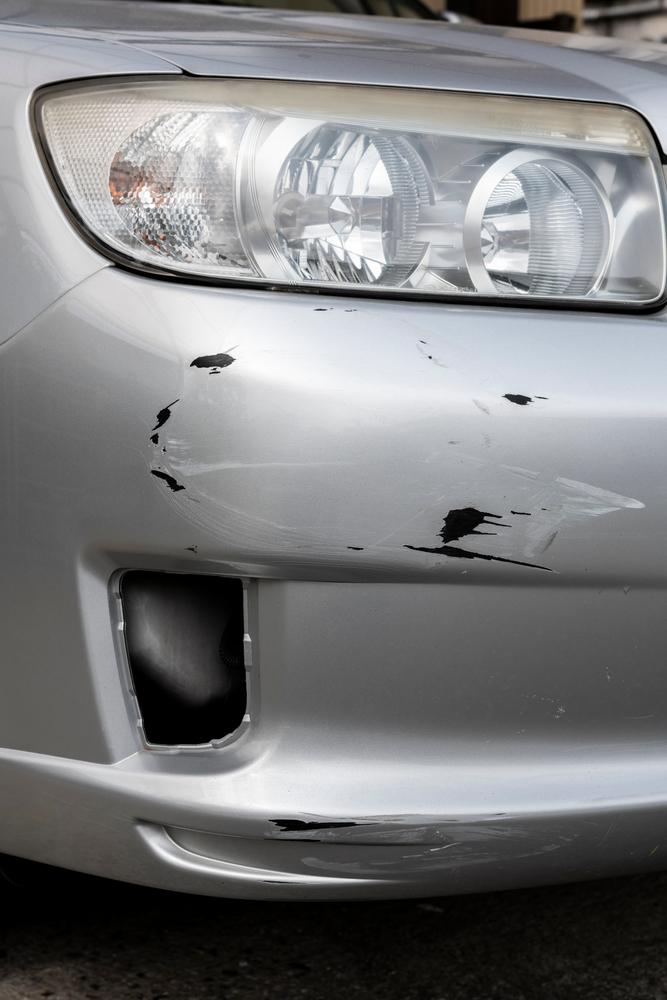scratch: (144, 304, 646, 576), (266, 804, 587, 878)
